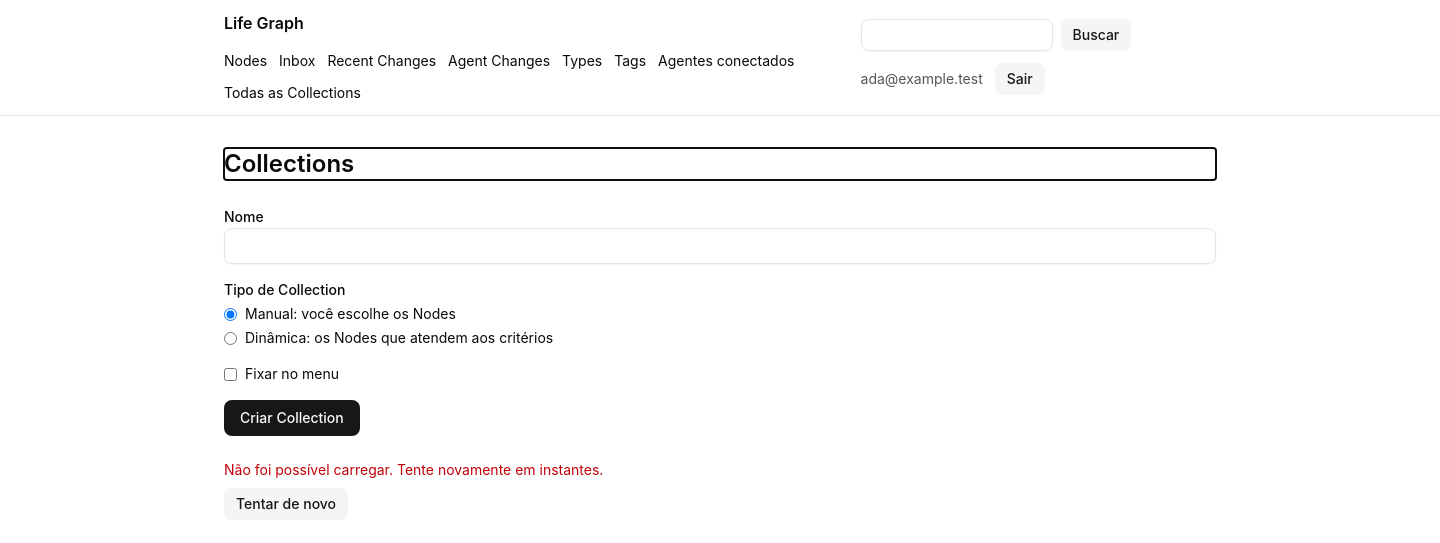
collections page › offers to try again when the list fails
Click the button "Tentar de novo".
click(286, 504)  # box [224,488,348,520]
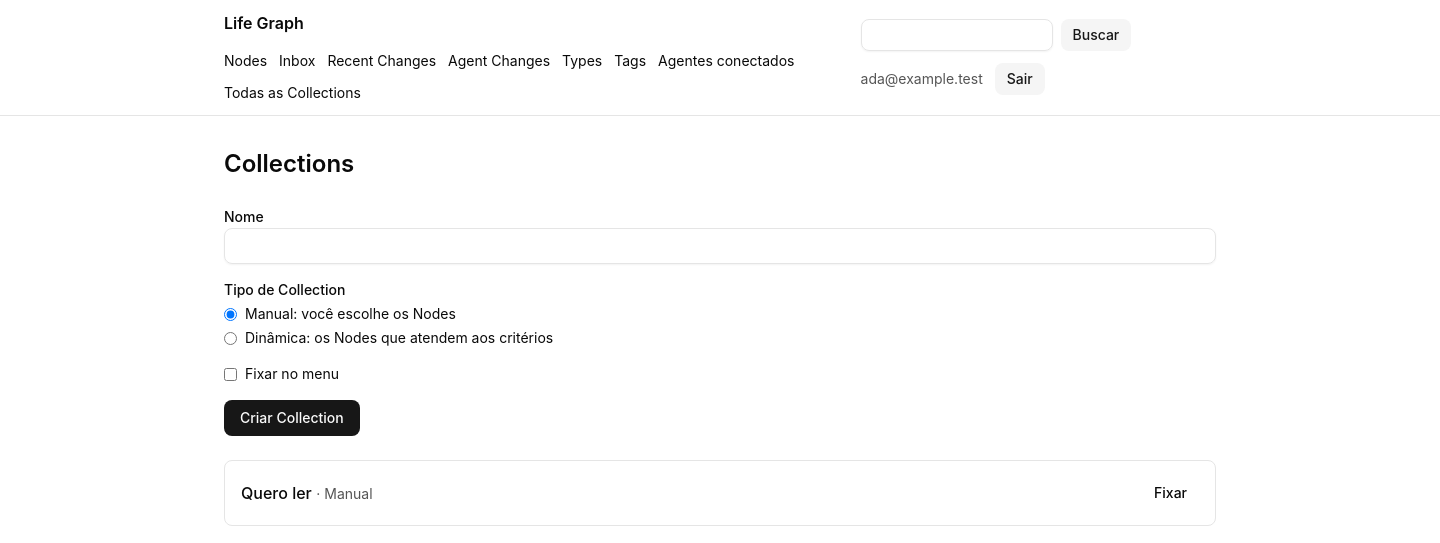
Expected: the list named "Collections" is shown, [224,460,1216,526]
